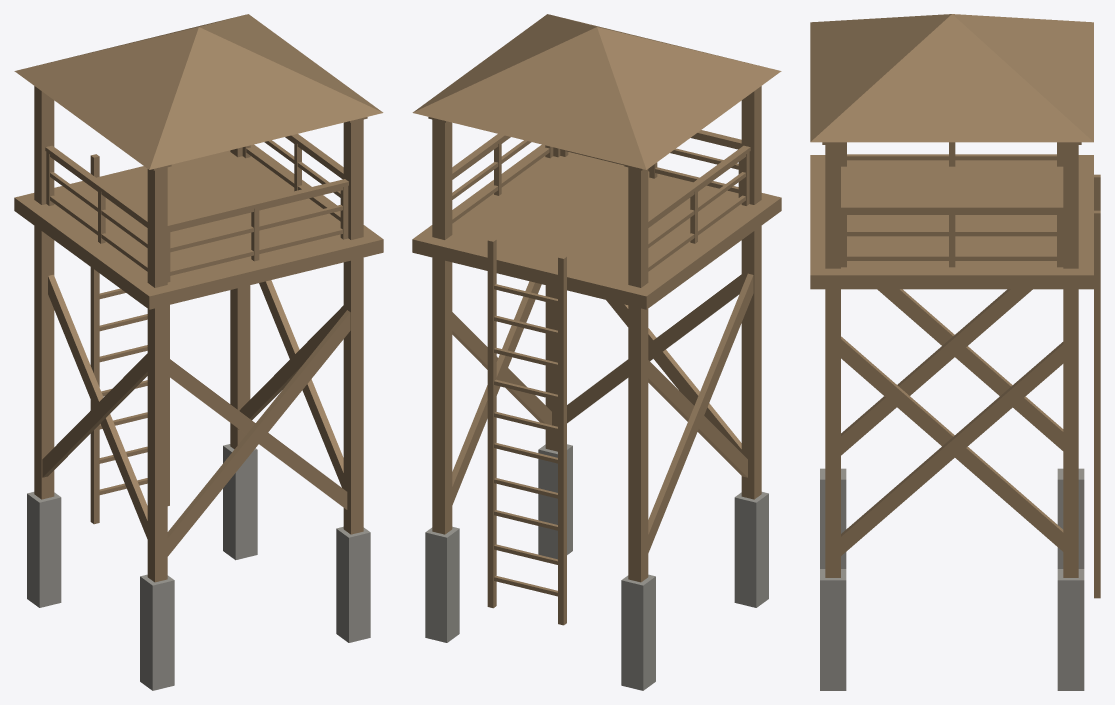
File: camp-props-cube-002.glb
The picture shows the model from 3 angles, left to right: view 1: azimuth 30°, elevation 25°; view 2: azimuth 150°, elevation 25°; view 3: azimuth 270°, elevation 25°; orthographic projection. The views are drawn at different scales.
Visible parts, largest first — view 1: camp-props-cube-002; view 2: camp-props-cube-002; view 3: camp-props-cube-002.
Boxes of the visible parts, bbox=[...] form: camp-props-cube-002: bbox=[14, 14, 383, 690]; camp-props-cube-002: bbox=[412, 14, 781, 690]; camp-props-cube-002: bbox=[810, 14, 1100, 690].
Size of the model in its own units: 3.68 by 8.88 by 3.77.
